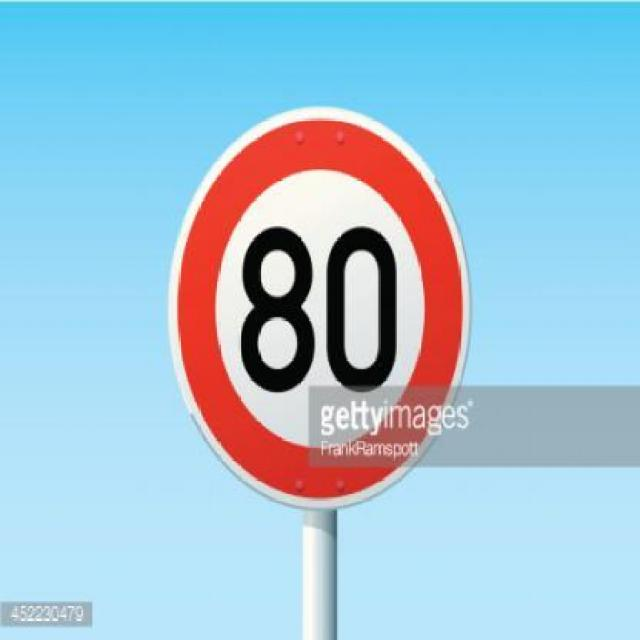Ograniczenie predkosci do 80: (179, 118, 466, 518)
